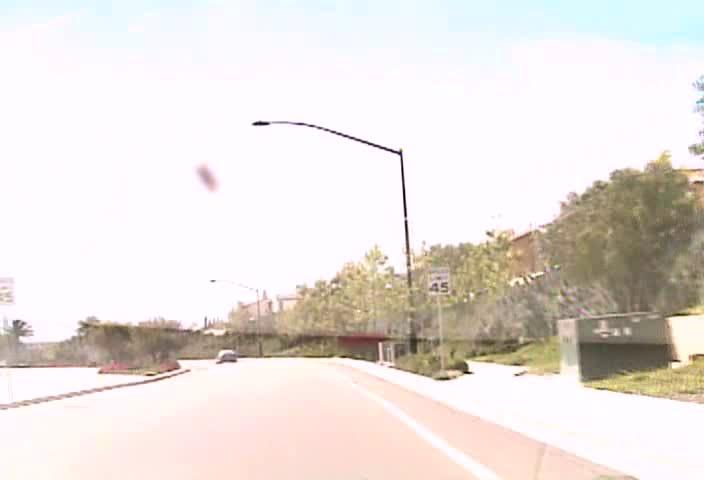speedLimit45: (426, 266, 451, 296)
